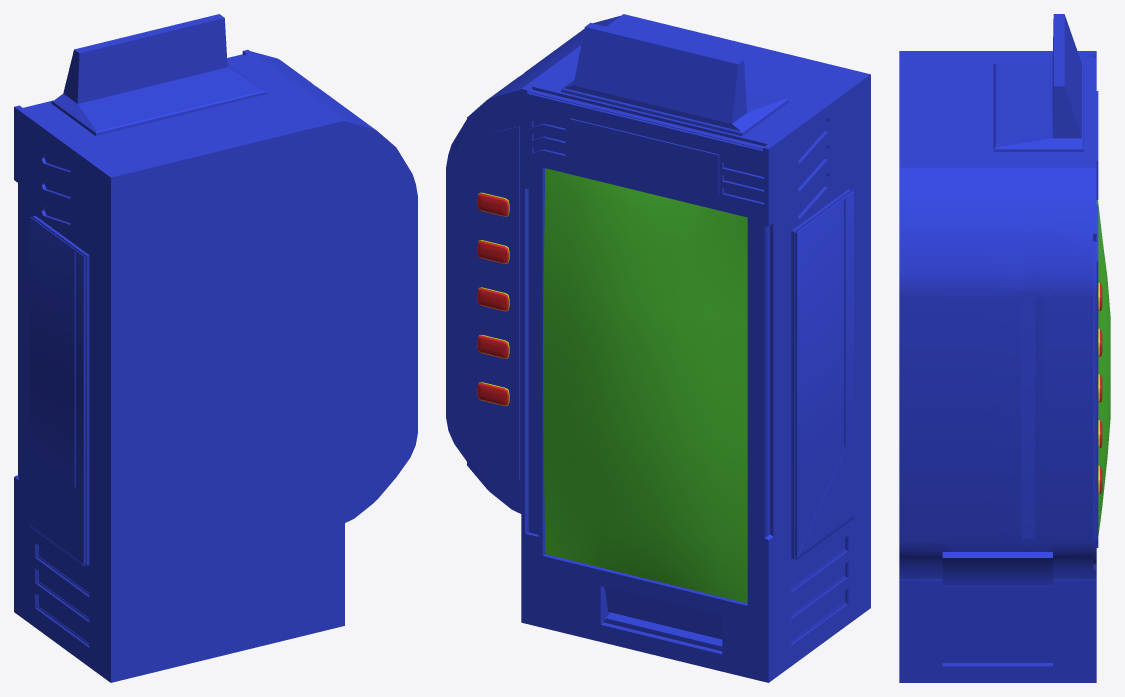
Rendered from Shop.fbx.
The picture shows the model from 3 angles, left to right: view 1: azimuth 30°, elevation 25°; view 2: azimuth 150°, elevation 25°; view 3: azimuth 270°, elevation 25°; orthographic projection. The views are drawn at different scales.
Parts seen in each view (by area): view 1: Machine.001, Coté; view 2: Machine.001, Coté, Bouton; view 3: Coté, Machine.001, Bouton.
Boxes of the visible parts, box(x1,y1,x2,y2) form: Machine.001: box(14, 14, 344, 682); Coté: box(250, 51, 417, 522); Machine.001: box(521, 14, 870, 682); Coté: box(446, 15, 620, 514); Bouton: box(477, 193, 508, 405); Coté: box(899, 167, 1099, 586); Machine.001: box(899, 14, 1110, 682); Bouton: box(1100, 283, 1102, 493).
Bounding box in the file's own units: 138 × 235 × 78.59.
